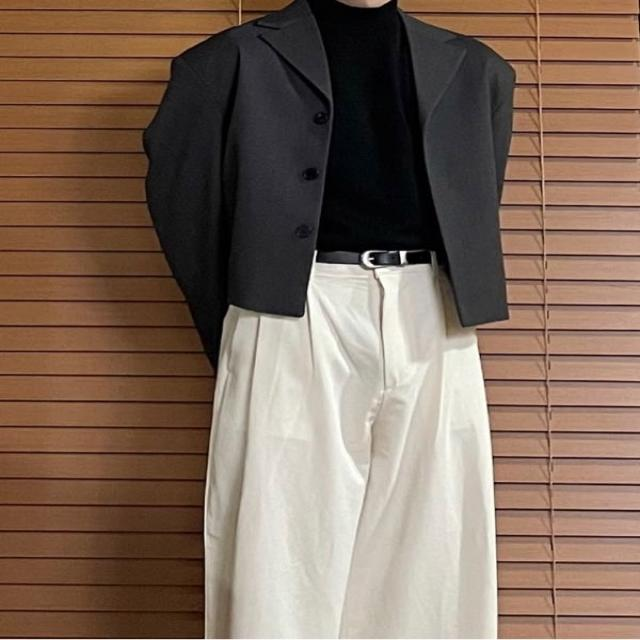blazer: (141, 3, 515, 376)
cottonpants: (198, 249, 500, 640)
